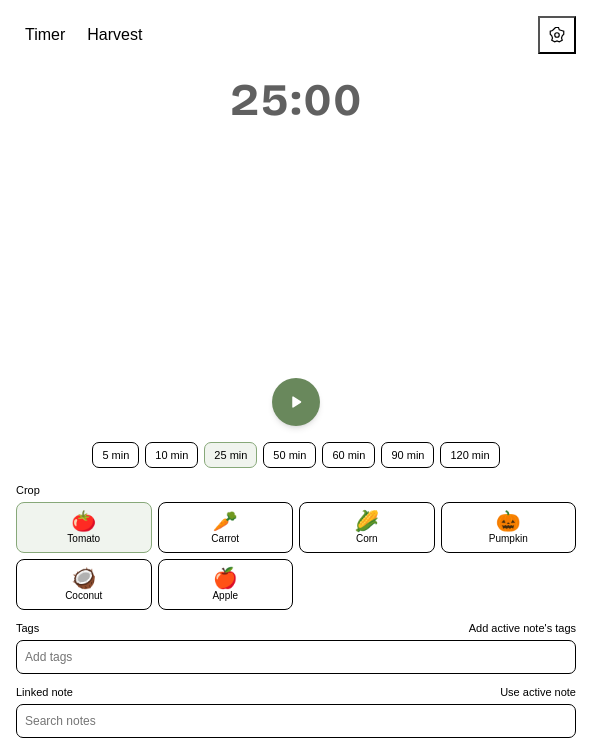
Test case: sidebar workflows backed by the real timer service › session details pickers › from the active note › adds all the active note's tags with one button, then has nothing left to offer
Click the button "Add active note's tags". click: click(522, 628)
box: [469,622,576,634]
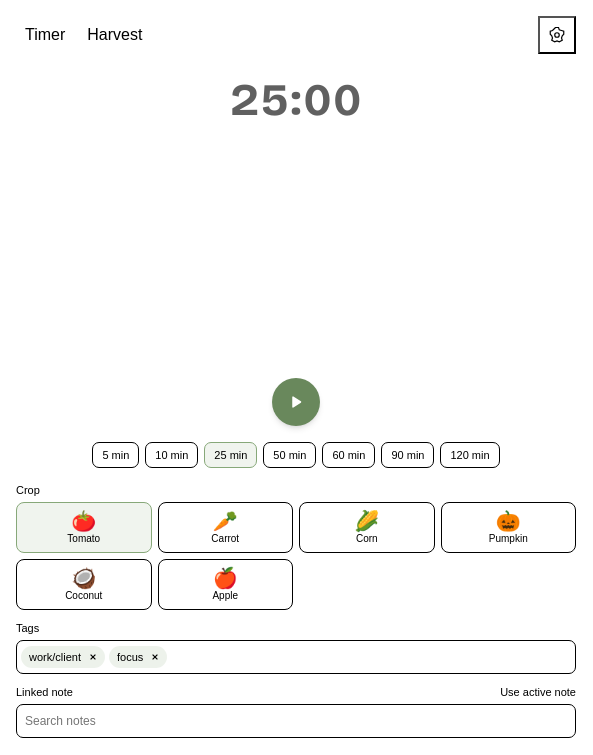
Expected: the button "Add active note's tags" is gone
